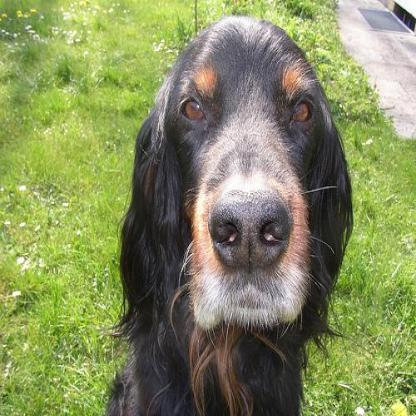Gordon_setter: (102, 7, 354, 412)
